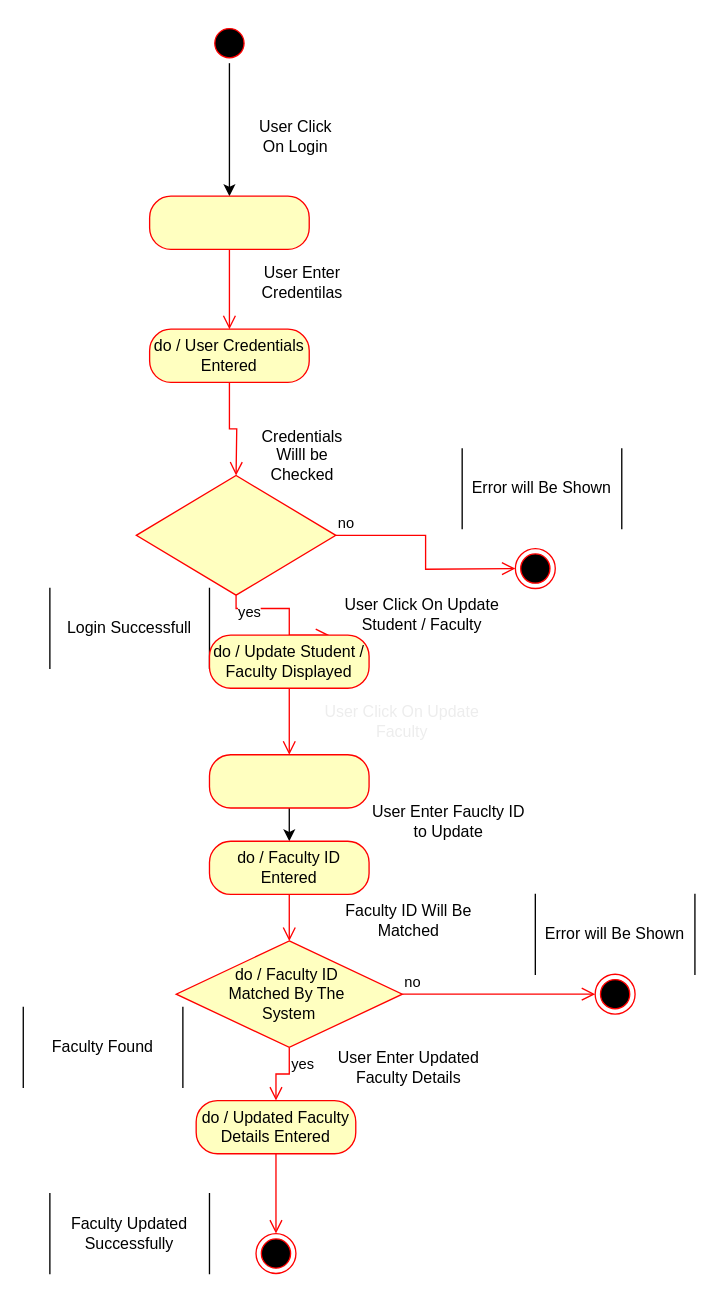
Some shapes in this 718 by 1297 pixel diagram are drawn without their labels. Each missing label, with the centre of its shape:
"do / Credentials Checked By the System" goes at point (235, 534).
"do / Login Page Shown" goes at point (228, 222).
"do / Update Faculty Displayed" goes at point (288, 780).
